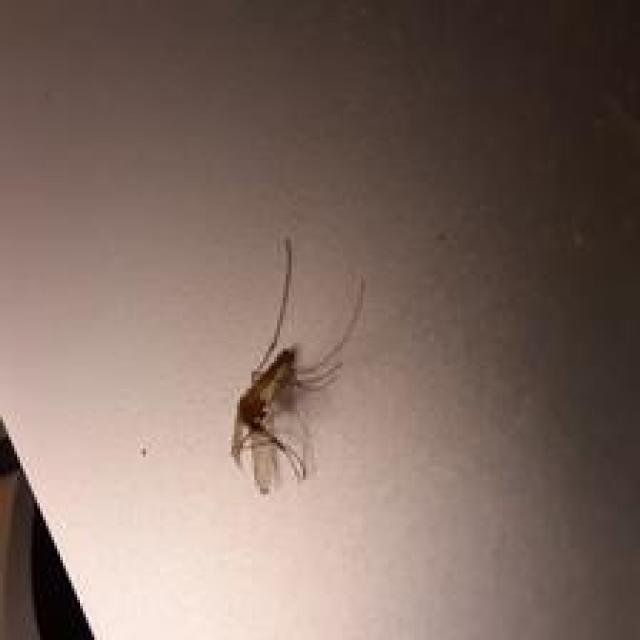Culex: (227, 234, 367, 497)
